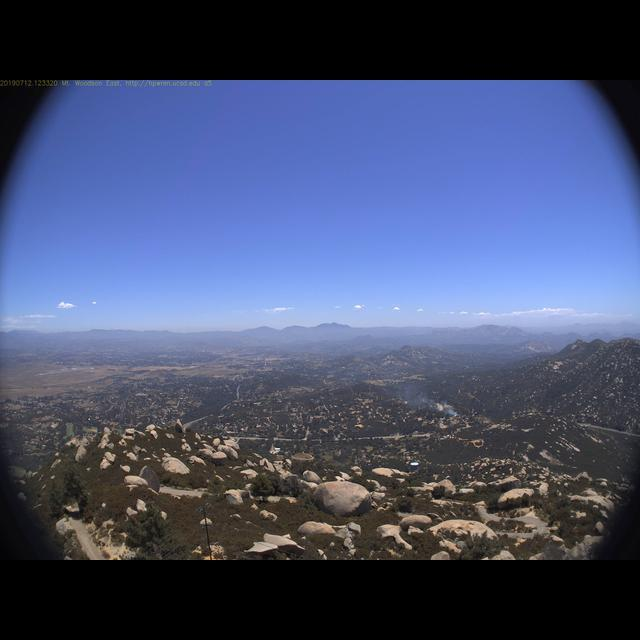Smoke: (401, 387, 457, 417)
